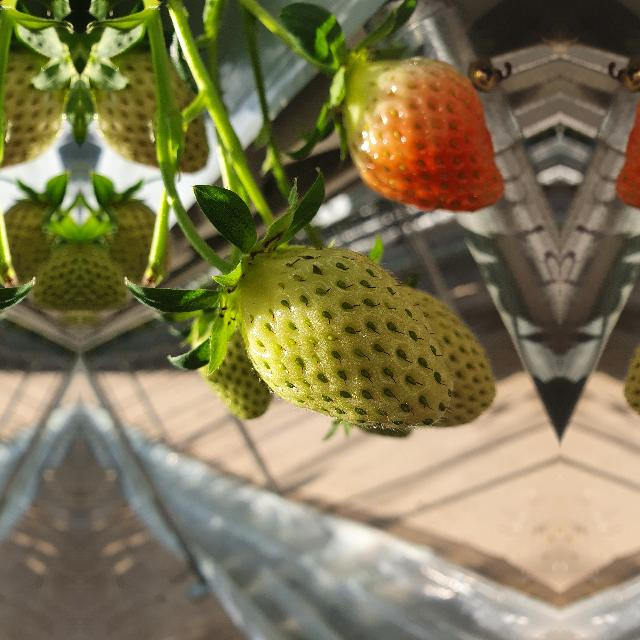Health_100: (330, 58, 508, 214)
Health_25: (237, 245, 453, 427), (90, 44, 210, 174), (196, 284, 280, 418), (0, 44, 70, 174)
